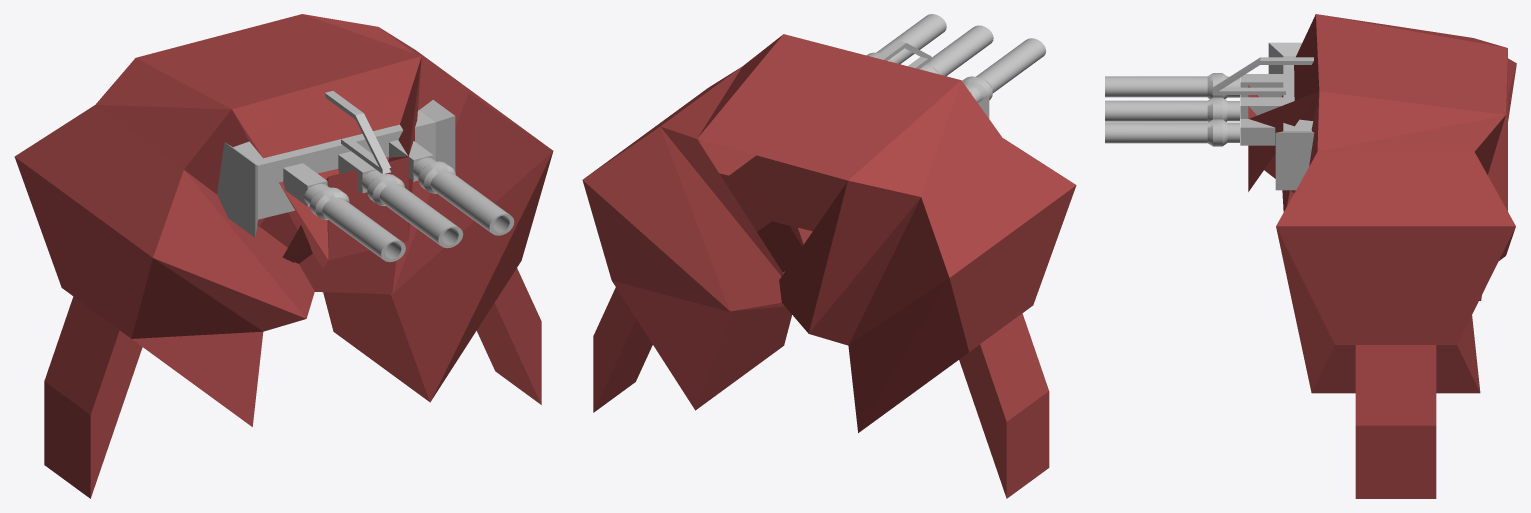
The model's file is TurretA.fbx.
The picture shows the model from 3 angles, left to right: view 1: azimuth 30°, elevation 25°; view 2: azimuth 150°, elevation 25°; view 3: azimuth 270°, elevation 25°; orthographic projection. The views are drawn at different scales.
Visible parts, largest first — view 1: pCube15, pCube5, pCylinder13, pCylinder12, pCylinder11, pCube4, pCube6, pCube12, pCube1; view 2: pCube15, pCylinder11, pCylinder12, pCylinder13, pCube4; view 3: pCube15, pCube5, pCylinder13, pCylinder12, pCylinder11, pCube4, pCube12, pCube6, pCube1.
Part boxes in pixels (box(x1,y1,x2,y2)): pCube15: box(14, 14, 553, 498); pCube5: box(217, 100, 455, 237); pCylinder13: box(412, 157, 514, 235); pCylinder12: box(361, 170, 463, 248); pCylinder11: box(304, 184, 405, 262); pCube4: box(325, 91, 391, 174); pCube6: box(283, 163, 327, 206); pCube12: box(389, 140, 433, 180); pCube1: box(338, 151, 376, 193); pCube15: box(582, 34, 1076, 498); pCylinder11: box(967, 38, 1045, 102); pCylinder12: box(920, 25, 993, 76); pCylinder13: box(866, 14, 946, 64); pCube4: box(876, 41, 931, 69); pCube15: box(1248, 14, 1516, 498); pCube5: box(1268, 42, 1314, 190); pCylinder13: box(1105, 119, 1239, 146); pCylinder12: box(1105, 97, 1239, 121); pCylinder11: box(1105, 73, 1239, 97); pCube4: box(1212, 57, 1313, 94); pCube12: box(1240, 119, 1275, 145); pCube6: box(1240, 74, 1283, 97); pCube1: box(1240, 97, 1283, 118).
Size of what is drawn, in the model's own units: 22.63 by 19.12 by 20.52.
